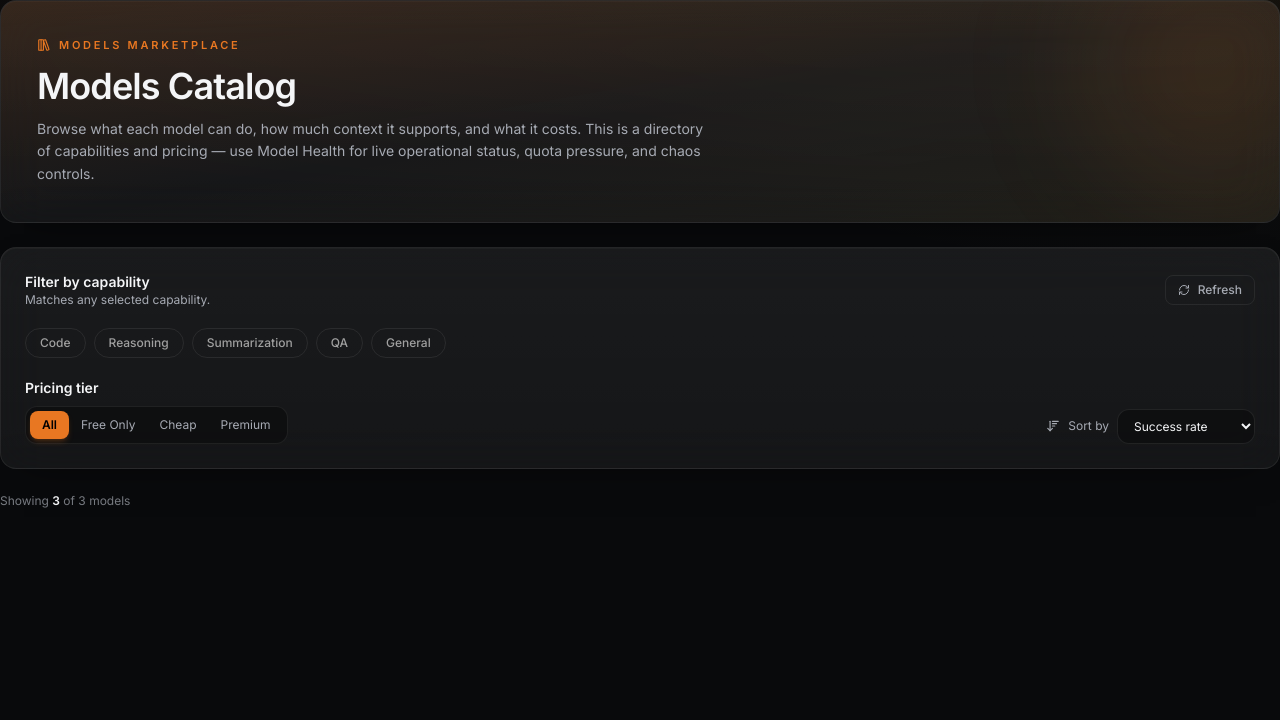
ModelCatalog › combines capability and pricing filters
Click the button "Summarization" at (250, 343), box [192,328,308,358]
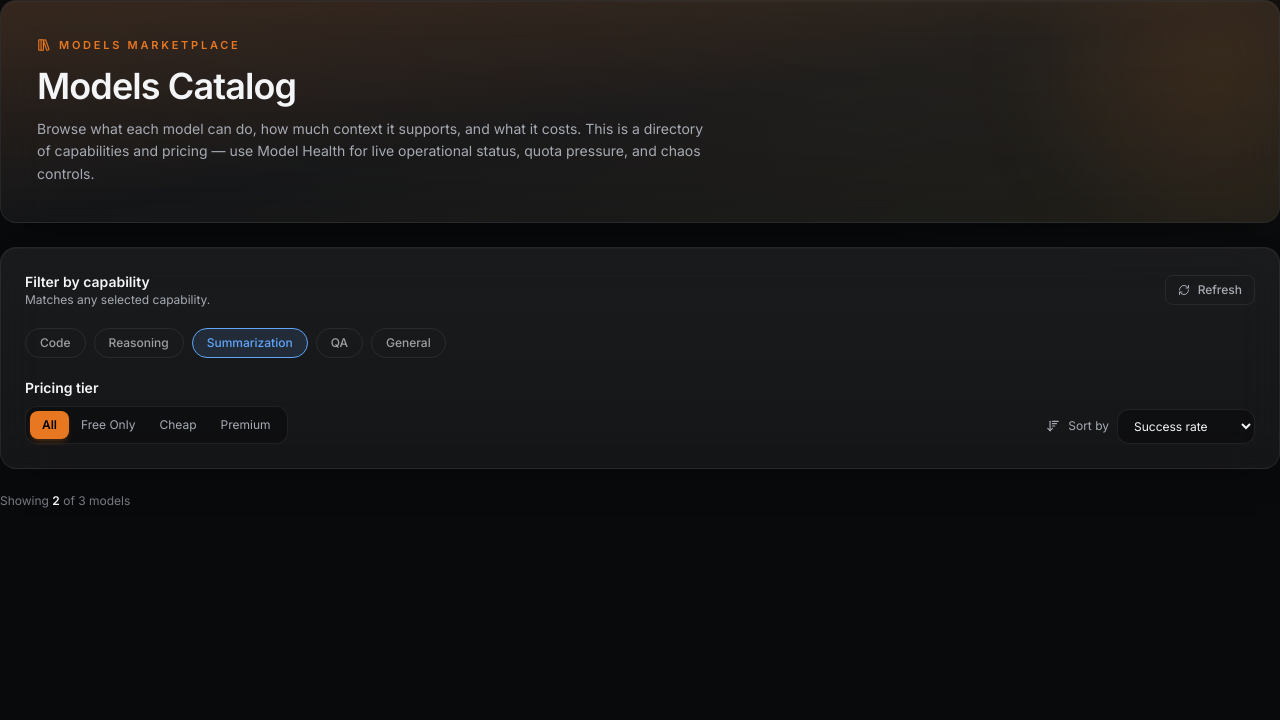
Click the button "Cheap" at (178, 425), box [147,411,208,439]
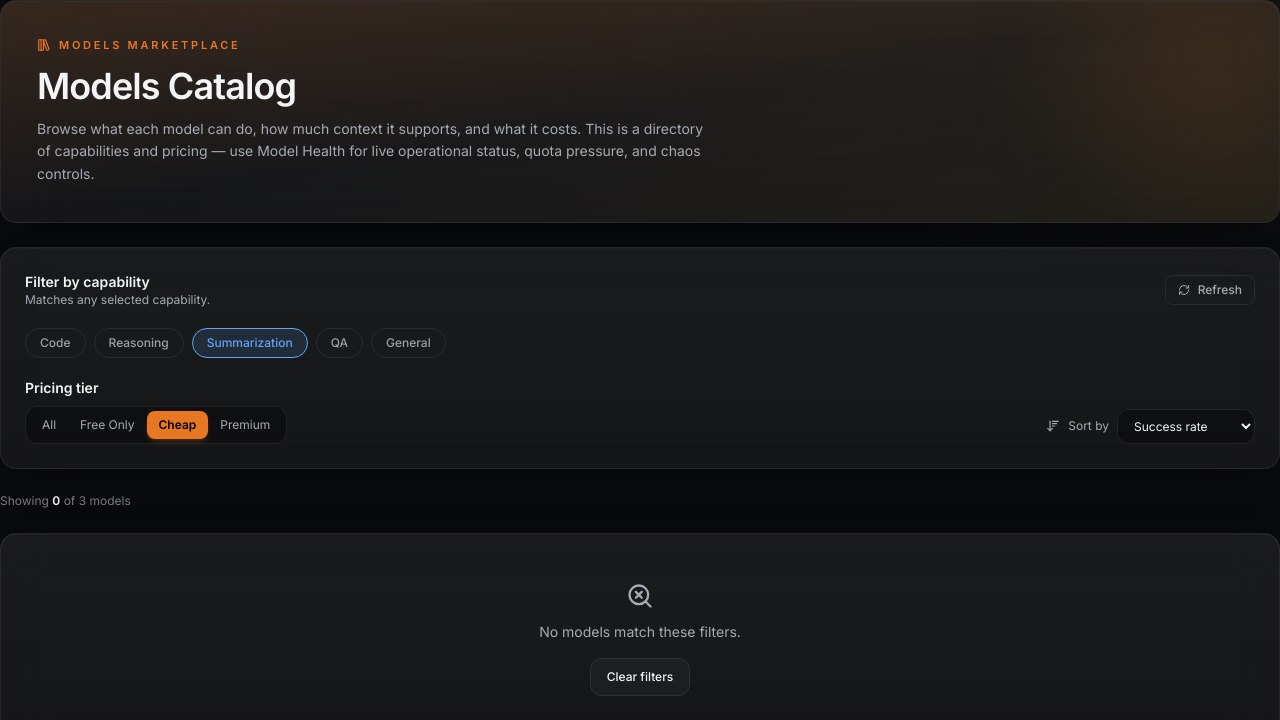
Expected: the text "No models match these filters." is shown, [539,623,741,640]
